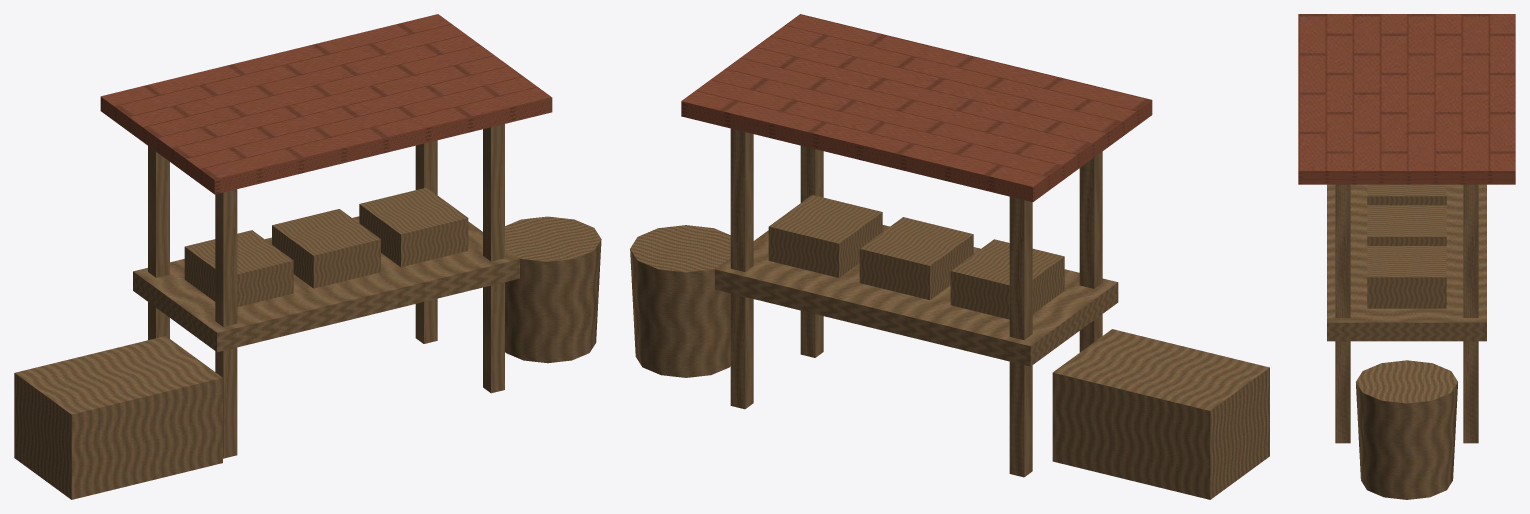
3 renders of one model, left to right at view 1: azimuth 30°, elevation 25°; view 2: azimuth 150°, elevation 25°; view 3: azimuth 270°, elevation 25°, orthographic. The views are drawn at different scales.
Parts seen in each view (by area): view 1: market-wood, market-roof; view 2: market-wood, market-roof; view 3: market-wood, market-roof.
Boxes of the visible parts, x1,y1,x2,y2 form: market-wood: (14,124,601,499); market-roof: (100,14,552,194); market-wood: (630,128,1269,499); market-roof: (681,14,1152,201); market-wood: (1327,184,1486,499); market-roof: (1298,14,1515,184).
Size of the model in its own units: 4.85 by 2.46 by 1.7.
Materials: 2 (2 with a texture image).
